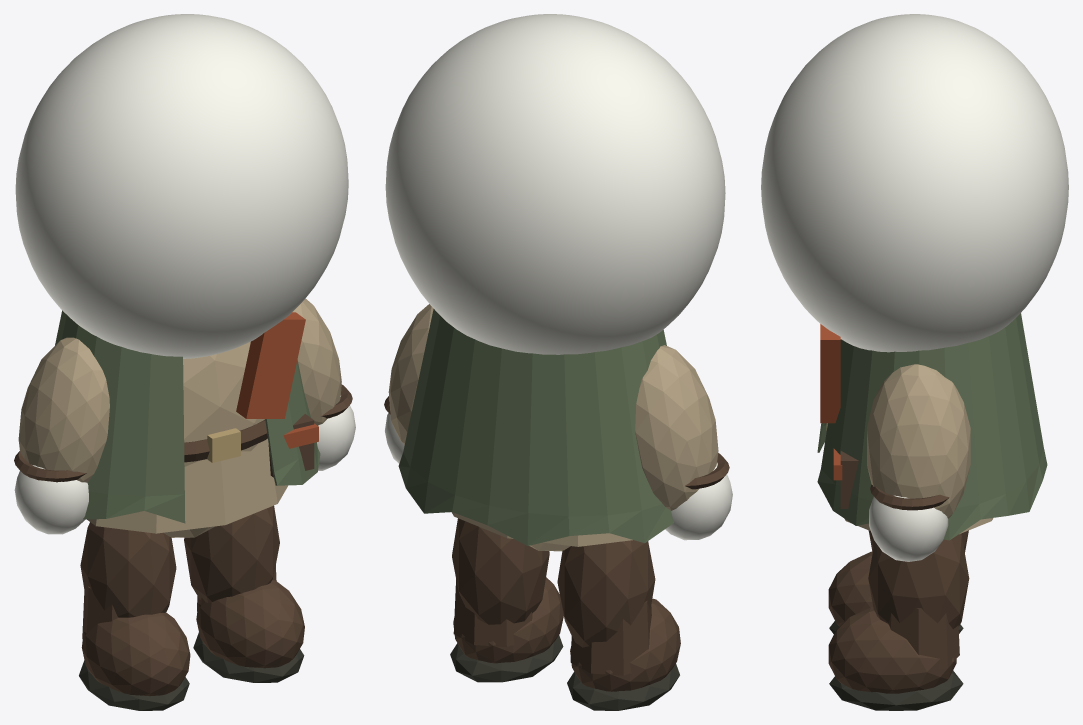
Rendered from DefaultWanderer.fbx.
3 views of the same model, side by side, from view 1: azimuth 30°, elevation 25°; view 2: azimuth 150°, elevation 25°; view 3: azimuth 270°, elevation 25° (orthographic). The views are drawn at different scales.
Parts seen in each view (by area): view 1: Face, StarterCape, SleeveL, Tunic, BootL, TrousersL, BootR, TrousersR, Body, ScarfTail, SleeveR, HandMeshL (+9 smaller); view 2: Face, StarterCape, SleeveL, TrousersL, TrousersR, BootL, BootR, SleeveR, BootShaftL, HandMeshL, BootSoleR, BootSoleL (+3 smaller); view 3: Face, StarterCape, SleeveR, BootR, TrousersR, HandMeshR, BootShaftR, BootSoleR, BootL, ScarfTail, WristBindingR, Pouch.
Boxes of the visible parts, left/top/right/bottom form: Face: left=15, top=14, right=348, bottom=358; StarterCape: left=55, top=310, right=320, bottom=523; SleeveL: left=18, top=337, right=109, bottom=482; Tunic: left=87, top=438, right=288, bottom=533; BootL: left=81, top=612, right=190, bottom=696; TrousersL: left=80, top=522, right=176, bottom=617; BootR: left=196, top=580, right=304, bottom=668; TrousersR: left=184, top=505, right=279, bottom=602; Body: left=163, top=341, right=264, bottom=537; ScarfTail: left=236, top=312, right=305, bottom=418; SleeveR: left=292, top=298, right=341, bottom=425; HandMeshL: left=14, top=465, right=88, bottom=534; Face: left=385, top=14, right=725, bottom=354; StarterCape: left=398, top=309, right=674, bottom=545; SleeveL: left=635, top=345, right=718, bottom=510; TrousersL: left=557, top=540, right=655, bottom=647; TrousersR: left=452, top=518, right=549, bottom=624; BootL: left=570, top=598, right=680, bottom=691; BootR: left=453, top=577, right=563, bottom=663; SleeveR: left=388, top=304, right=433, bottom=444; BootShaftL: left=570, top=600, right=651, bottom=675; HandMeshL: left=665, top=462, right=732, bottom=540; BootSoleR: left=450, top=635, right=563, bottom=682; BootSoleL: left=567, top=664, right=679, bottom=710; Face: left=761, top=14, right=1068, bottom=352; StarterCape: left=817, top=313, right=1047, bottom=540; SleeveR: left=867, top=364, right=970, bottom=518; BootR: left=828, top=607, right=956, bottom=693; TrousersR: left=868, top=533, right=969, bottom=629; HandMeshR: left=869, top=495, right=948, bottom=561; BootShaftR: left=888, top=608, right=959, bottom=669; BootSoleR: left=829, top=670, right=963, bottom=710; BootL: left=828, top=551, right=872, bottom=626; ScarfTail: left=820, top=324, right=840, bottom=423; WristBindingR: left=870, top=484, right=949, bottom=510; Pouch: left=840, top=451, right=858, bottom=508.
Bounding box in the file's own units: 149 × 282 × 122.
